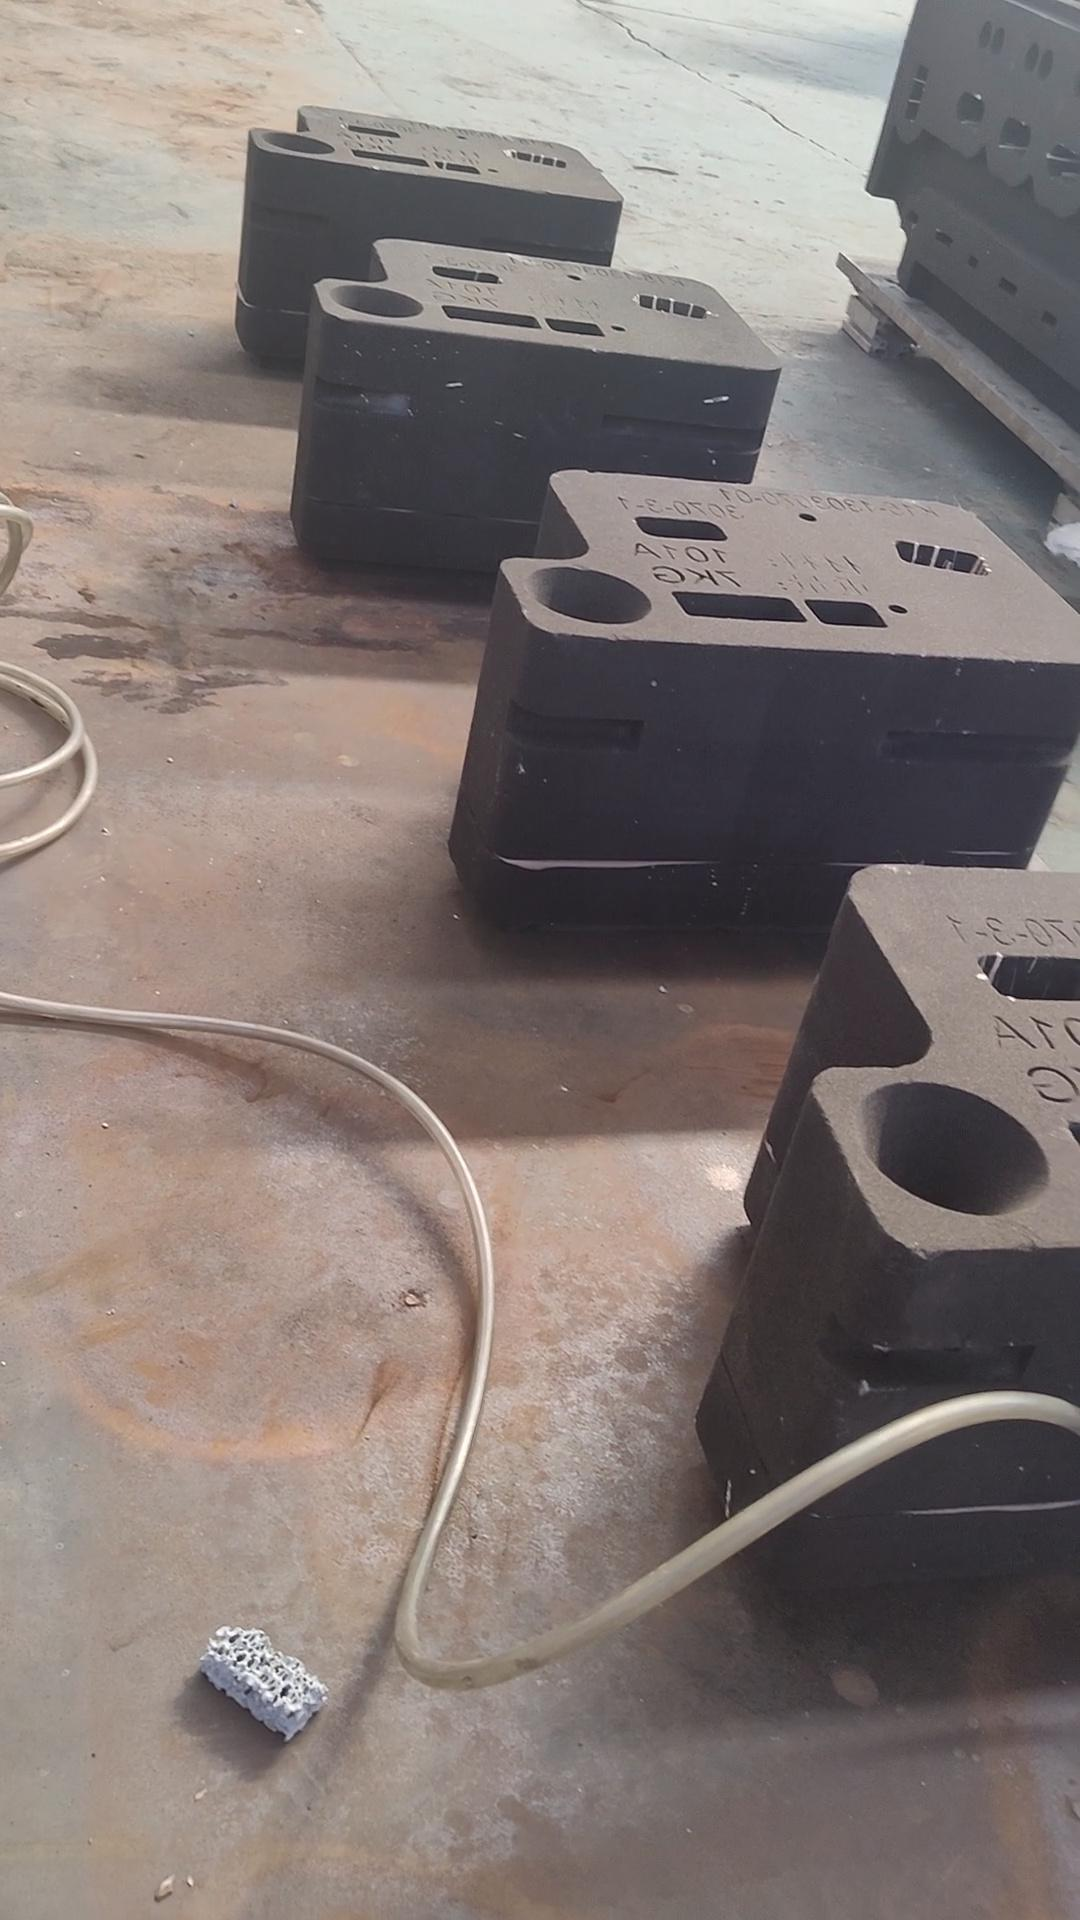pouring hole: (853, 1083, 1048, 1216), (522, 566, 653, 622), (330, 286, 425, 316), (260, 129, 335, 152)
